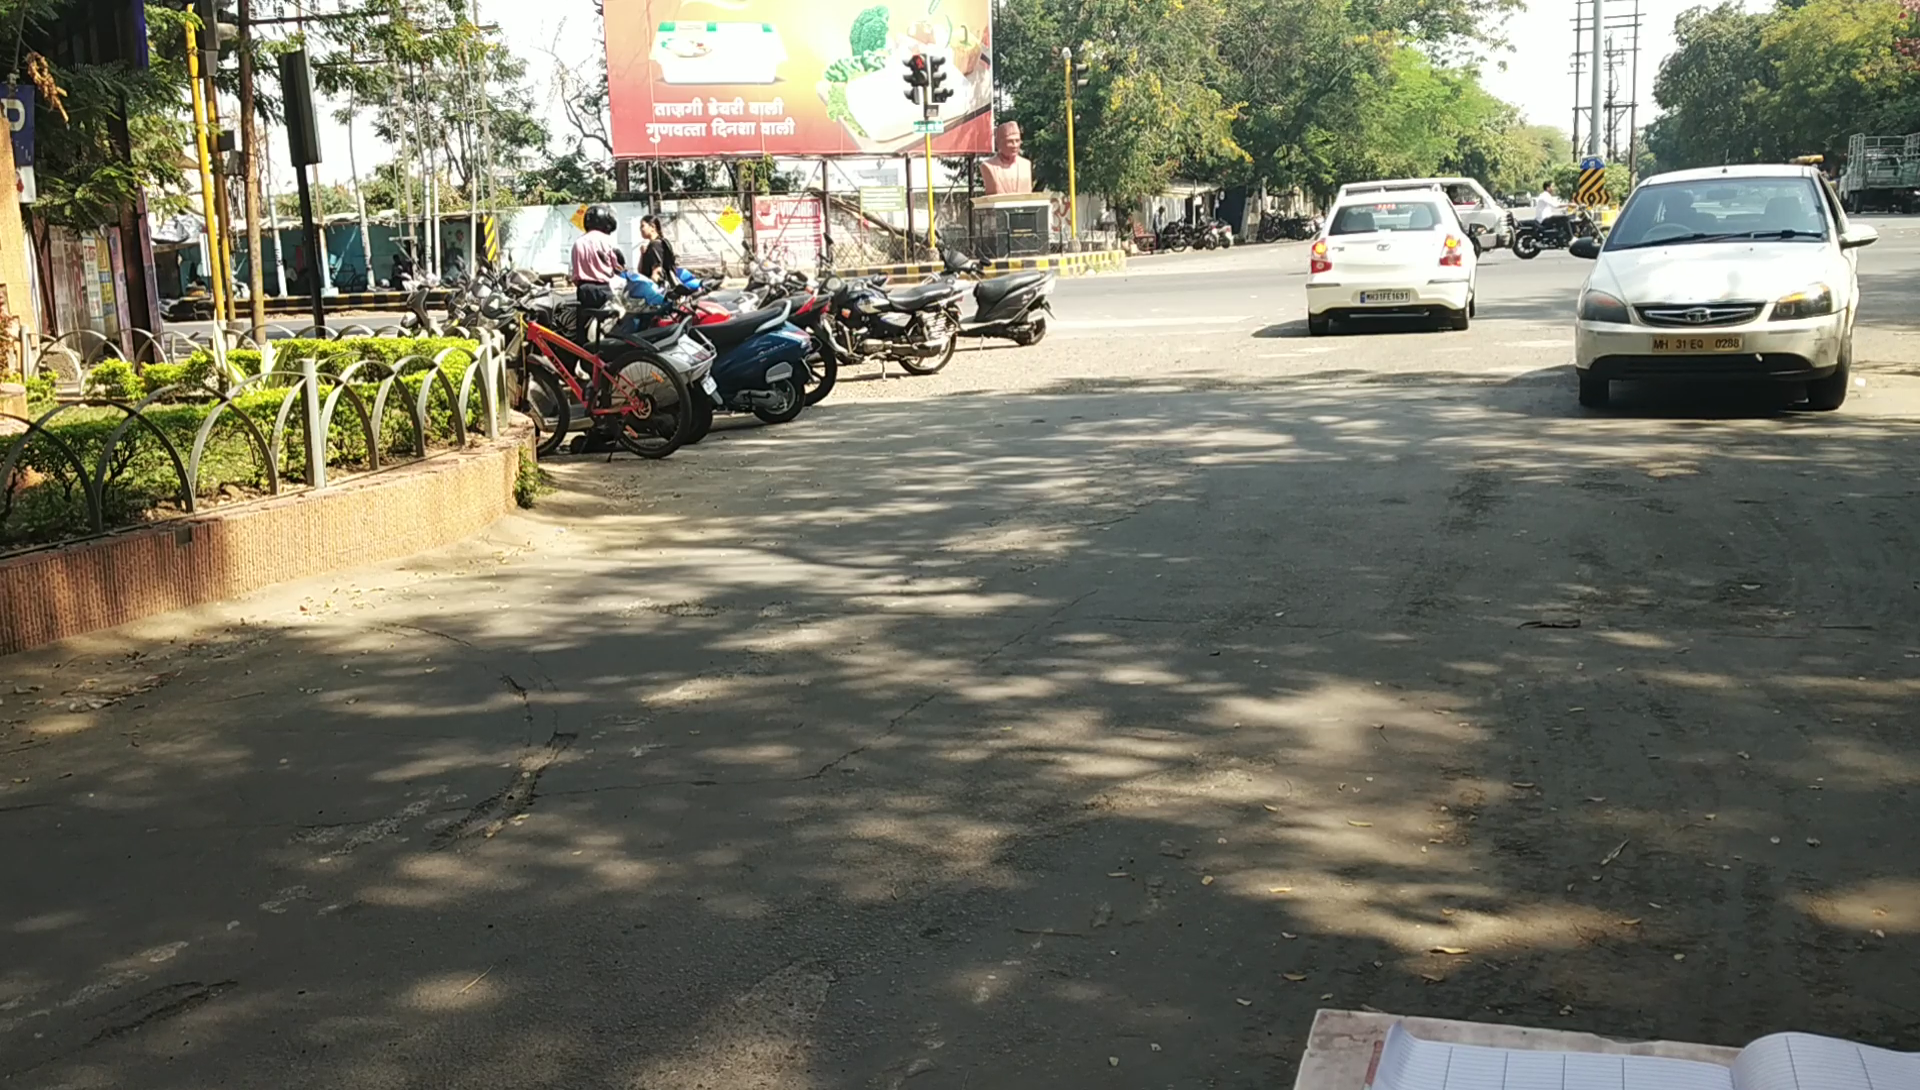car: (1563, 163, 1887, 428)
numplate: (1642, 335, 1752, 356)
